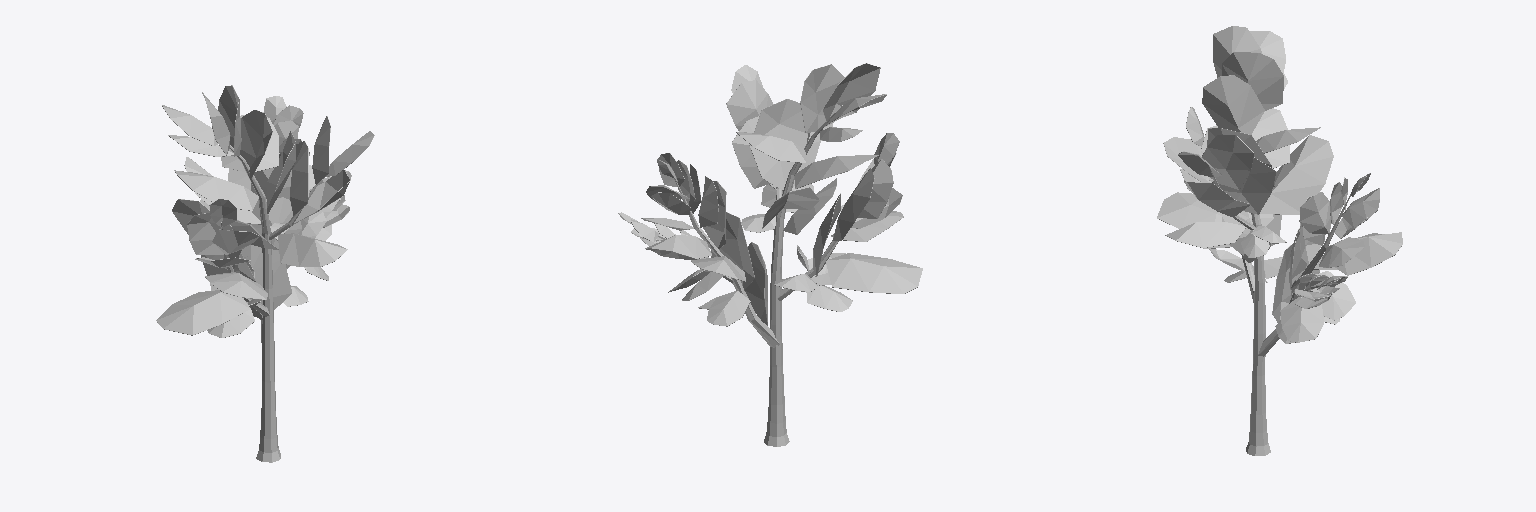
File: TreeB.obj
The picture shows the model from 3 angles: view 1: azimuth 30°, elevation 25°; view 2: azimuth 150°, elevation 25°; view 3: azimuth 270°, elevation 25°; orthographic projection.
Parts seen in each view (by area): view 1: Circle.009_Circle.019; view 2: Circle.009_Circle.019; view 3: Circle.009_Circle.019.
Boxes of the visible parts, box(x1,y1,x2,y2) form: Circle.009_Circle.019: box(156, 85, 374, 462); Circle.009_Circle.019: box(618, 63, 922, 446); Circle.009_Circle.019: box(1157, 26, 1402, 455).
Bounding box in the file's own units: 6.26 × 9.55 × 5.51.